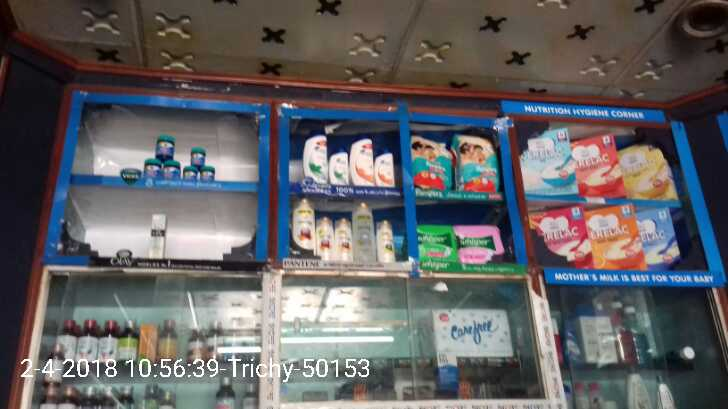vicks: (146, 133, 216, 182)
